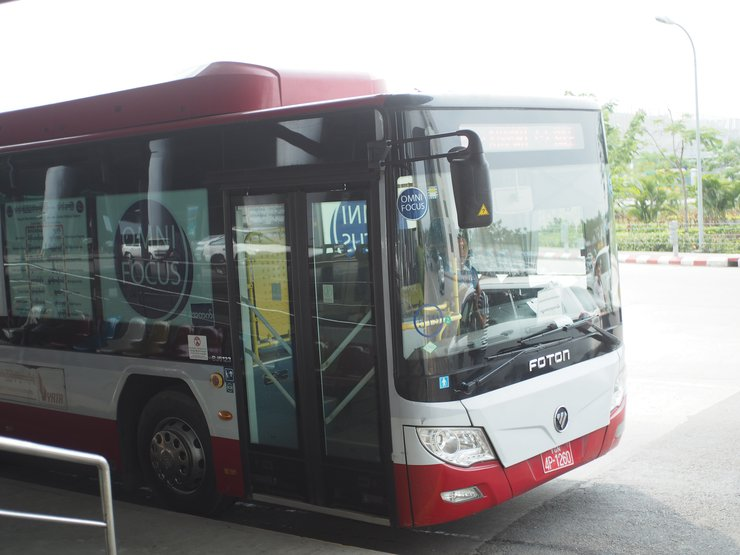bus: (9, 59, 627, 530)
